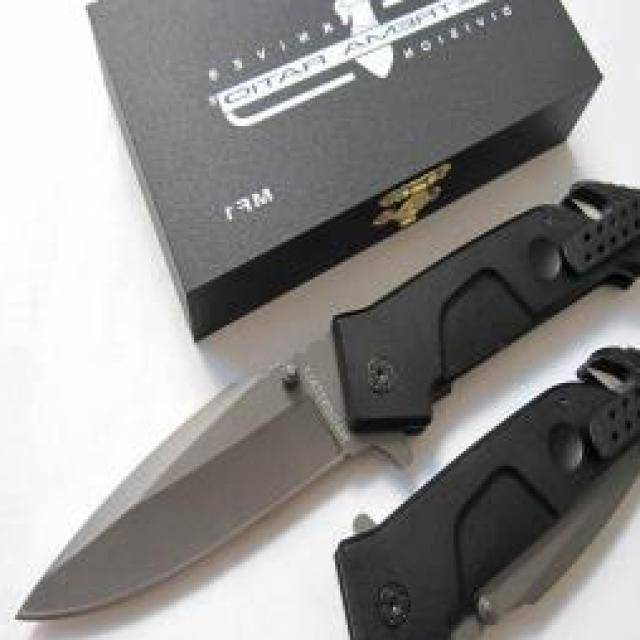knife: (0, 335, 378, 640)
